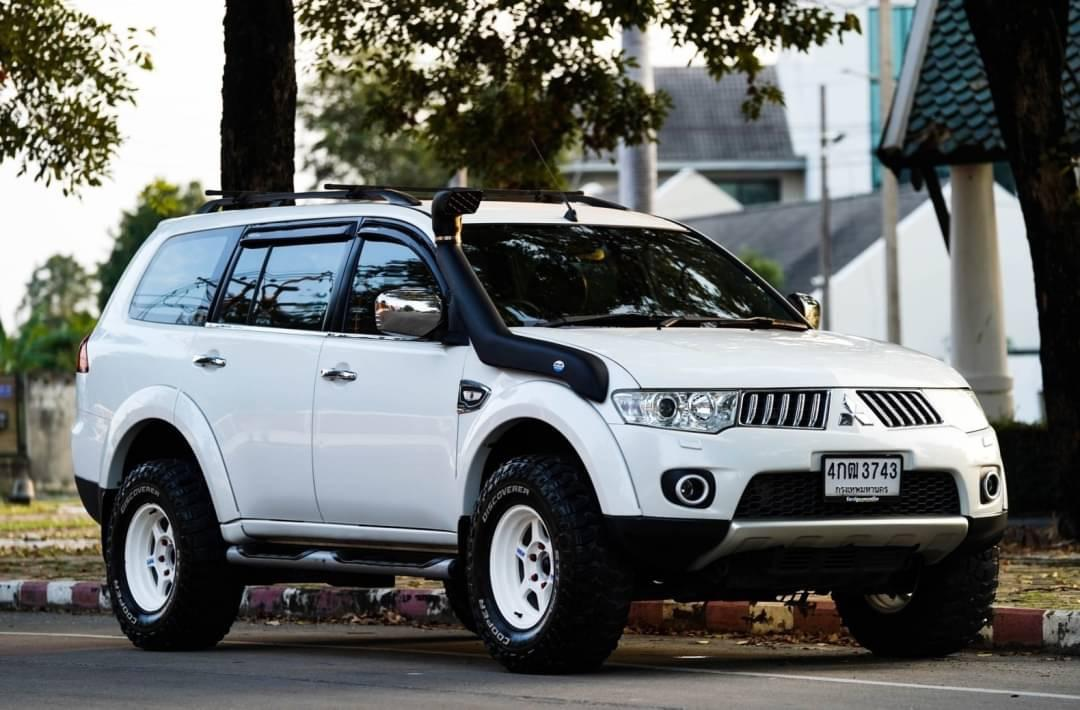license-plate: (813, 437, 910, 515)
